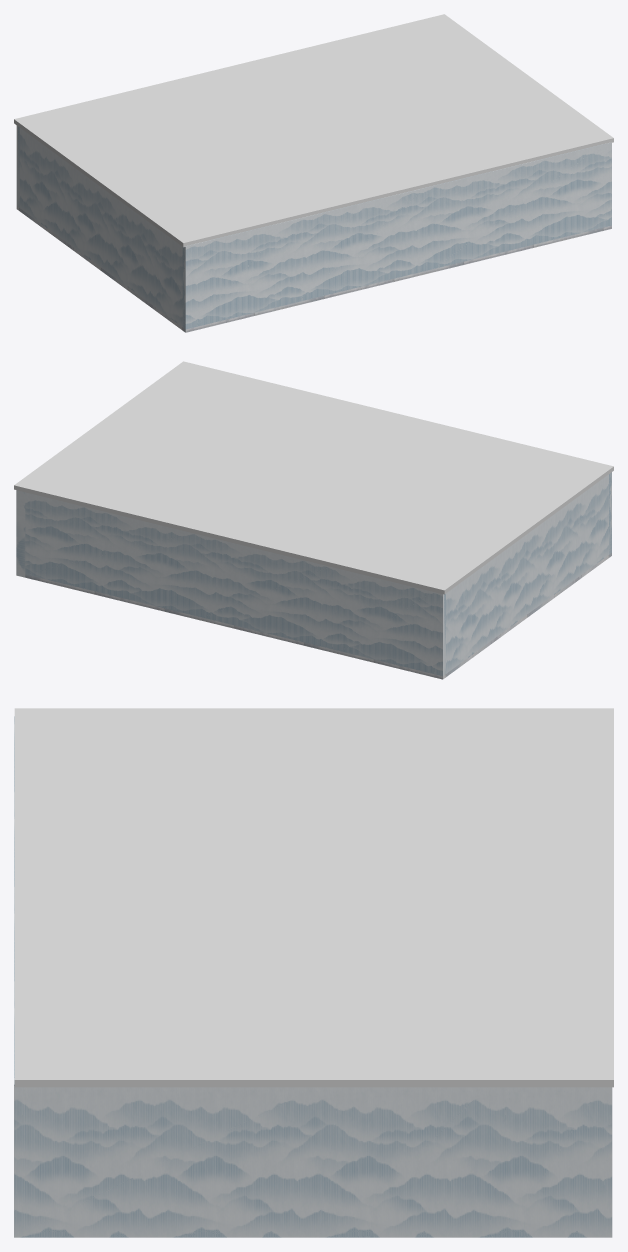
File: galleryInBlueTile.glb
3 renders of one model, top to bottom at view 1: azimuth 30°, elevation 25°; view 2: azimuth 150°, elevation 25°; view 3: azimuth 270°, elevation 25°, orthographic. The views are drawn at different scales.
Parts seen in each view (by area): view 1: ceiling, walls; view 2: ceiling, walls; view 3: ceiling, walls.
Part boxes in pixels (<box>): ceiling: <box>14,14,613,247</box>; walls: <box>16,125,611,332</box>; ceiling: <box>14,361,613,594</box>; walls: <box>16,472,611,679</box>; ceiling: <box>14,708,613,1087</box>; walls: <box>14,716,612,1237</box>.
Bounding box in the file's own units: 29.39 × 5.87 × 20.05.
4 materials, 3 textured.
